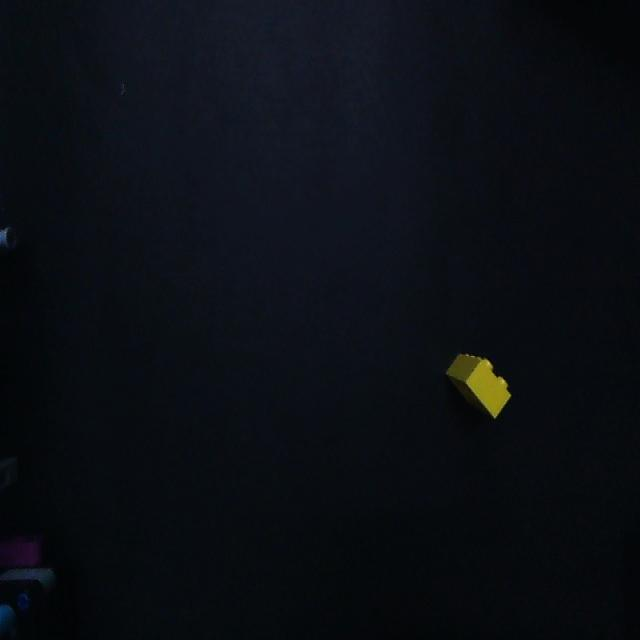lego_brick: (445, 356, 510, 416)
